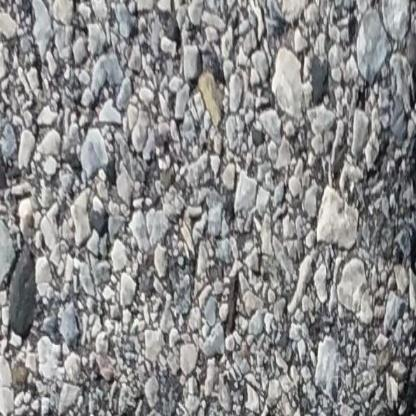Cracks: (396, 0, 416, 416)
